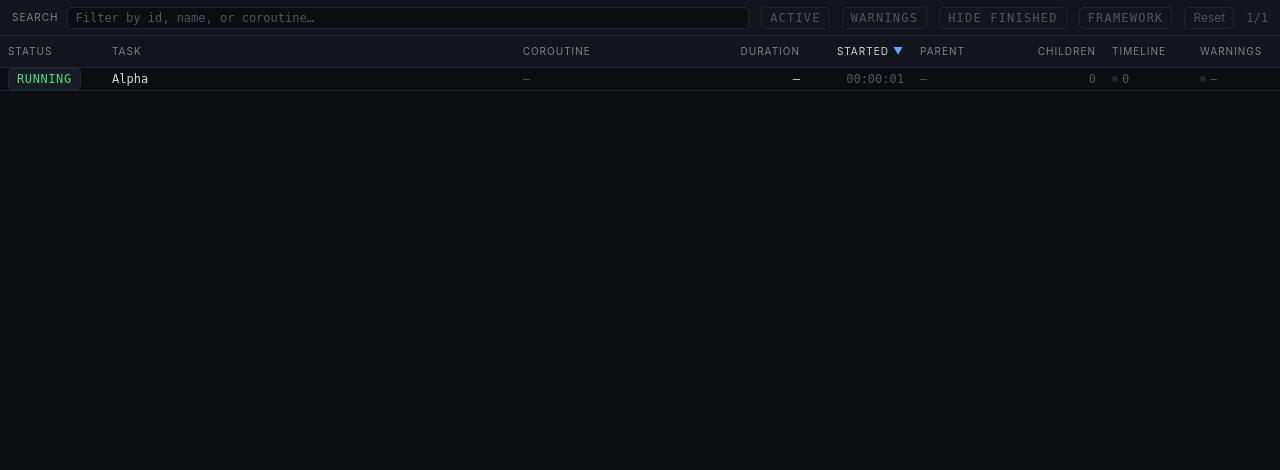
TaskTableContainer › toolbar 'Active' toggle prunes rows without an open segment
Click the button "Active".
click(796, 18)  # box top-left (761, 6), bottom-right (830, 28)
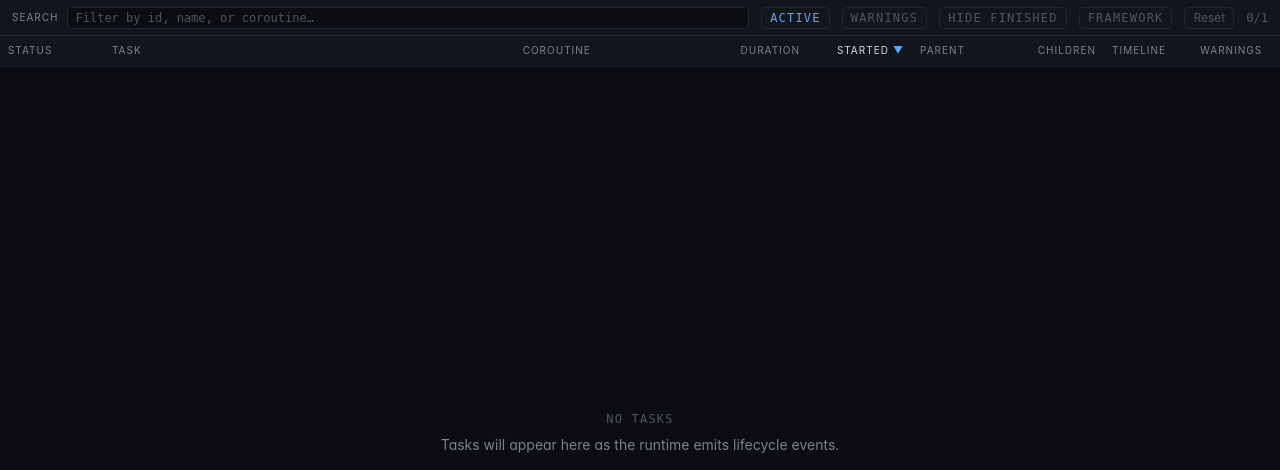
Check: the text "Alpha" is gone
